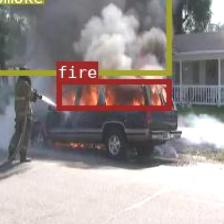fire: (56, 79, 170, 109)
smoke: (0, 0, 170, 74)
